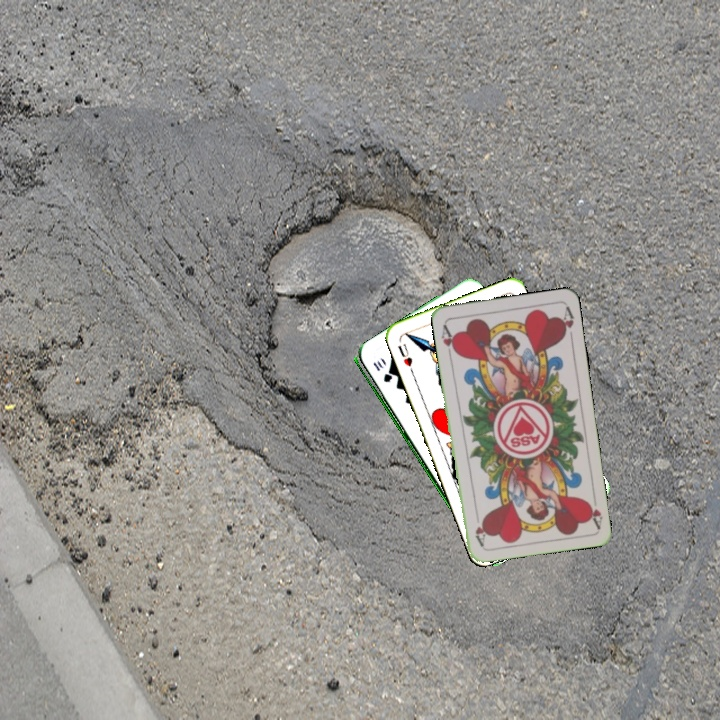G10: (369, 356, 393, 385)
HA: (437, 320, 460, 360), (583, 489, 605, 530)
HU: (394, 339, 415, 369)
